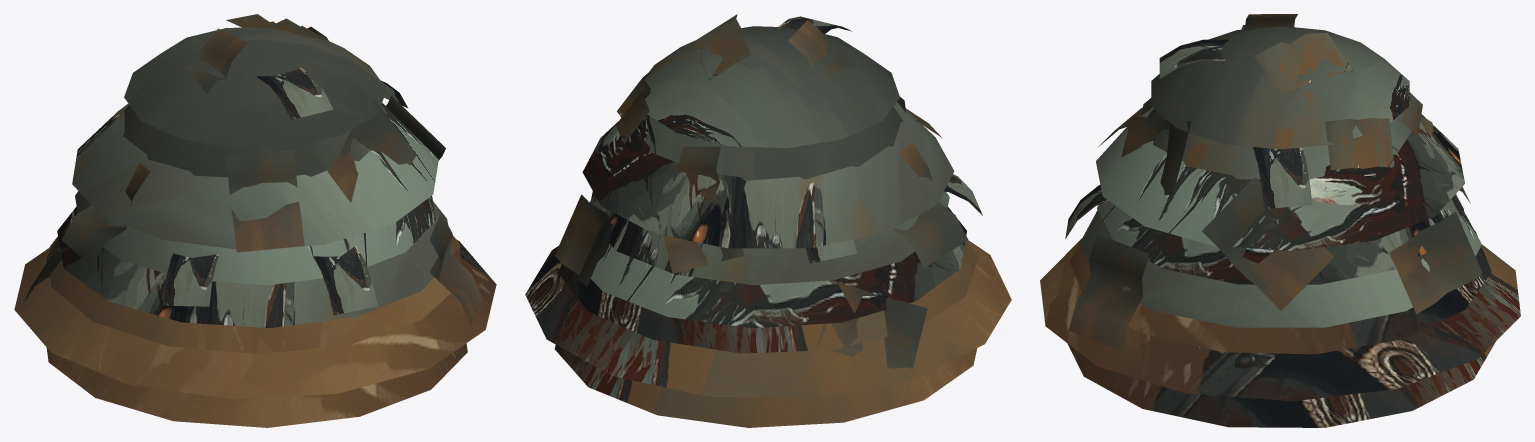
Rendered from Bush_1.fbx.
The picture shows the model from 3 angles, left to right: view 1: azimuth 30°, elevation 25°; view 2: azimuth 150°, elevation 25°; view 3: azimuth 270°, elevation 25°; orthographic projection.
Visible parts, largest first — view 1: Bush_1; view 2: Bush_1; view 3: Bush_1.
Part boxes in pixels (left/top/right/bottom): Bush_1: left=14, top=14, right=496, bottom=427; Bush_1: left=525, top=14, right=1011, bottom=427; Bush_1: left=1040, top=14, right=1520, bottom=427.
Size of the model in its own units: 1.05 by 0.7442 by 1.04.
